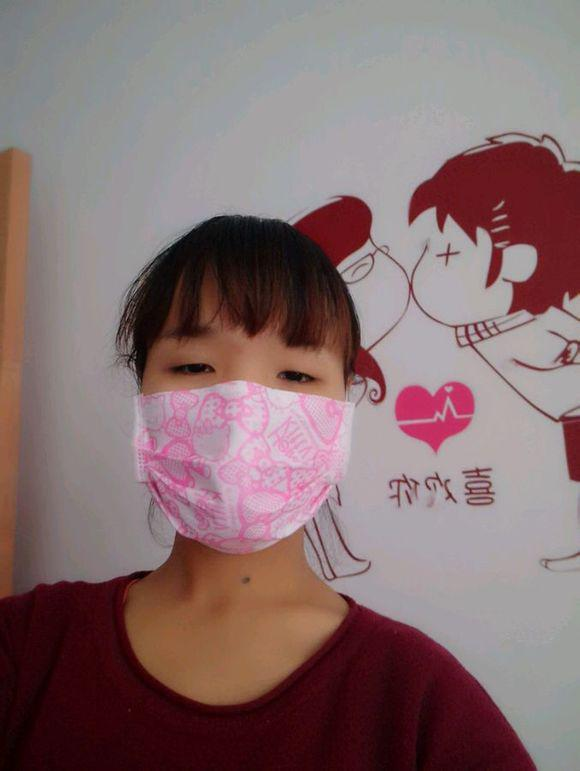OK: (141, 330, 355, 544)
